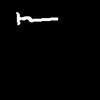half_double_crochet: (17, 12, 57, 24)
